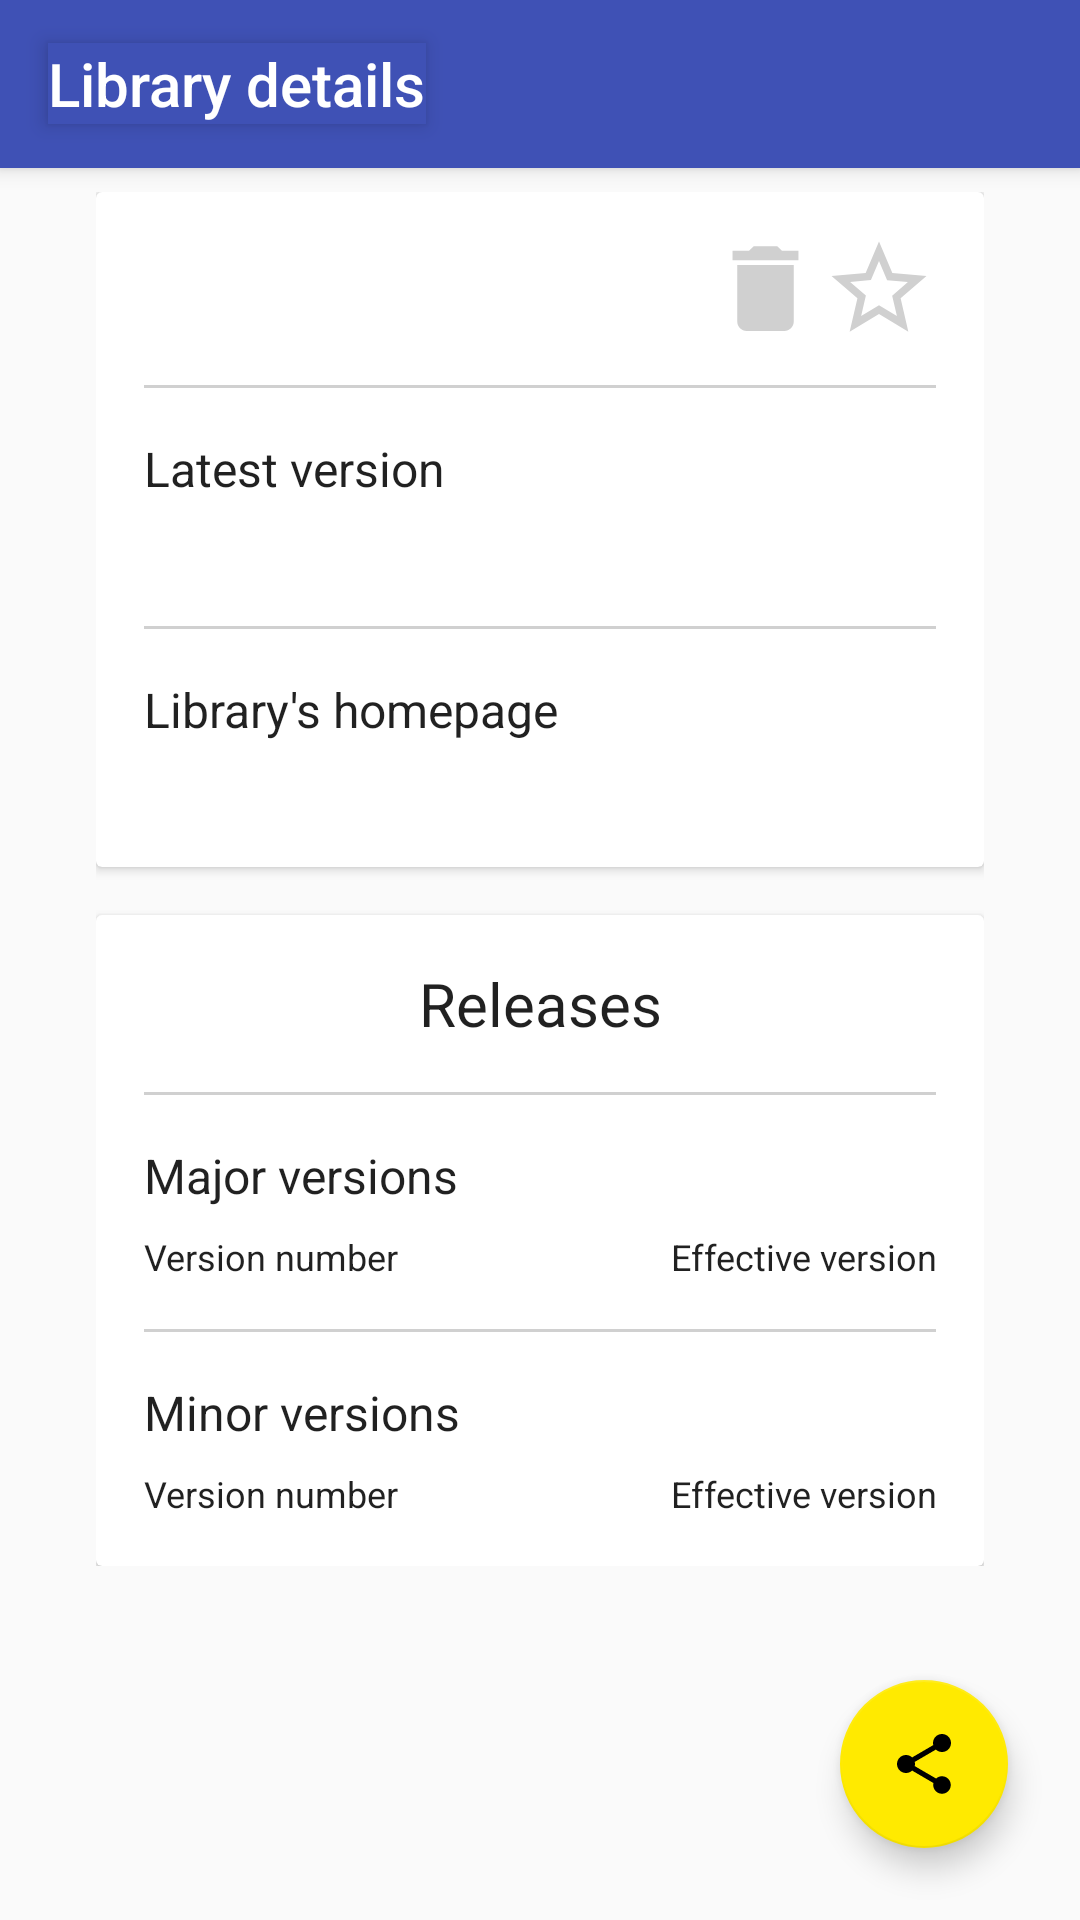

Point at icon controls on the screen. Image size 1080×1920, points as (x=x, y=y).
Icon to like library because it's not liked yet: (x=879, y=287)
share: (x=924, y=1764)
